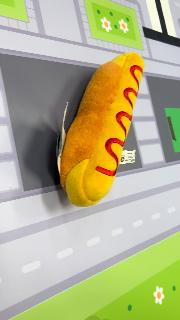hotdog: (58, 52, 146, 208)
